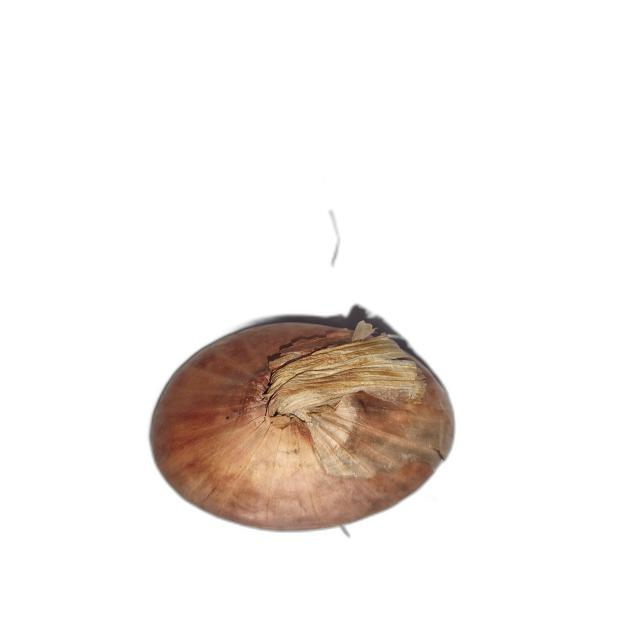onion: (148, 318, 458, 534)
